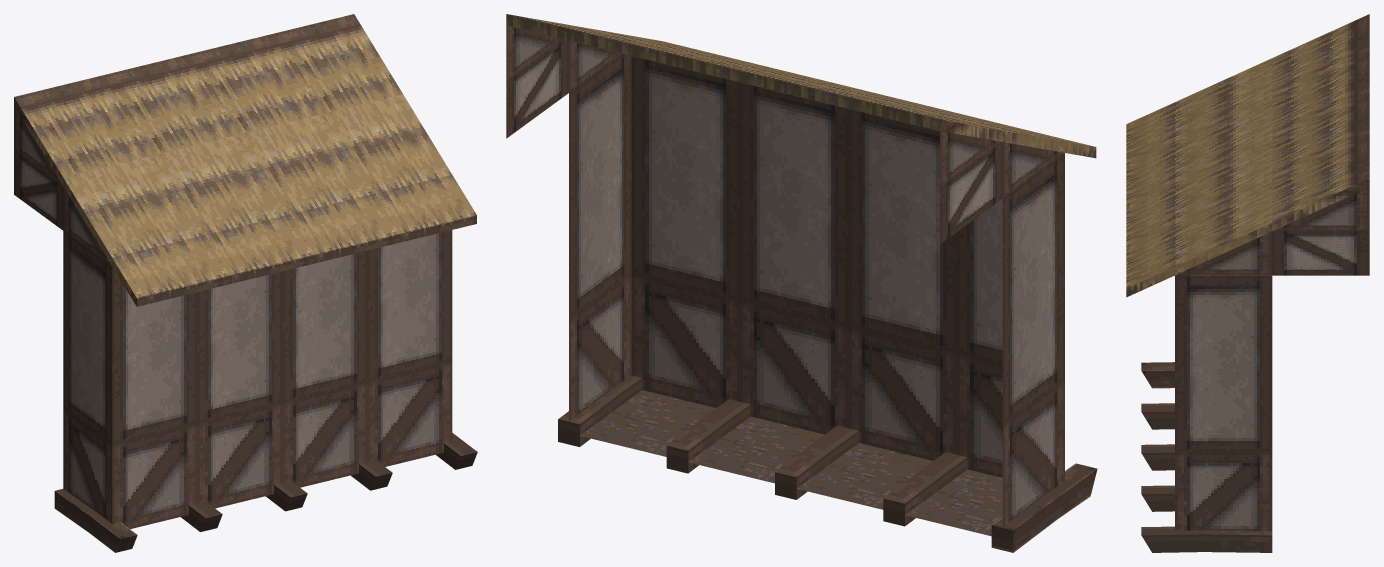
File: roof_straw_stickout_large.glb
The picture shows the model from 3 angles, left to right: view 1: azimuth 30°, elevation 25°; view 2: azimuth 150°, elevation 25°; view 3: azimuth 270°, elevation 25°; orthographic projection. The views are drawn at different scales.
Visible parts, largest first — view 1: roof_straw_stickout_large; view 2: roof_straw_stickout_large; view 3: roof_straw_stickout_large.
Boxes of the visible parts, x1=… form: roof_straw_stickout_large: x1=14, y1=14, x2=477, y2=552; roof_straw_stickout_large: x1=506, y1=14, x2=1097, y2=552; roof_straw_stickout_large: x1=1126, y1=14, x2=1369, y2=552.
Bounding box in the file's own units: 5.25 × 5.25 × 3.13.
1 material, 1 textured.
